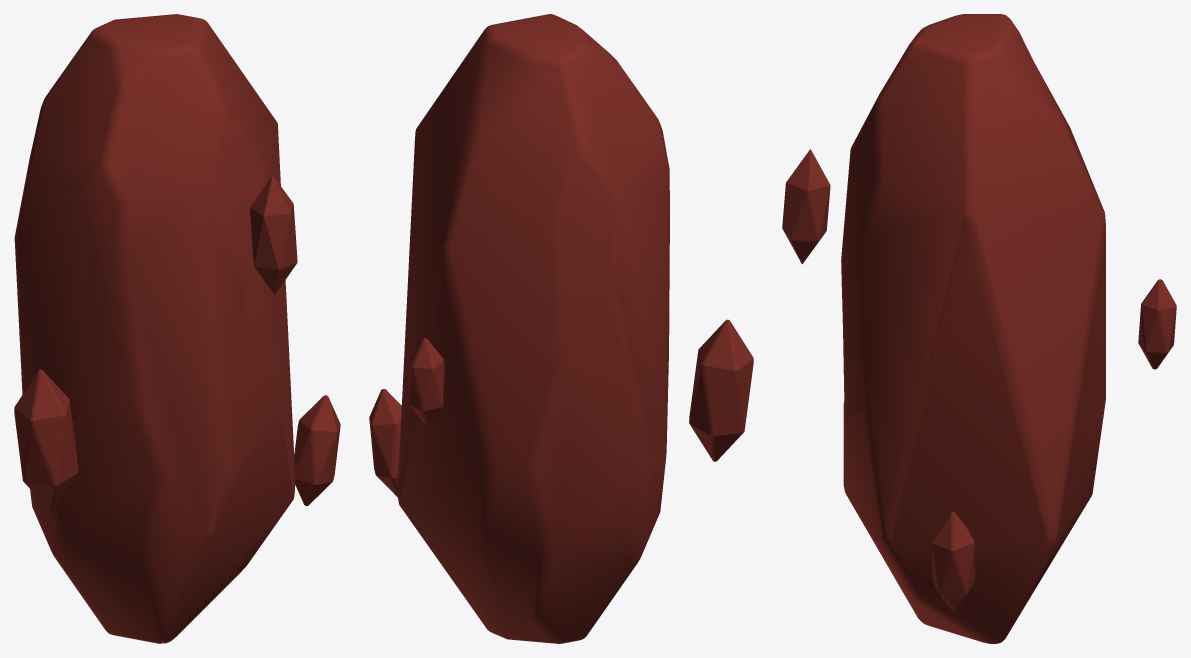
The model's file is crystal.glb.
3 renders of one model, left to right at view 1: azimuth 30°, elevation 25°; view 2: azimuth 150°, elevation 25°; view 3: azimuth 270°, elevation 25°, orthographic.
Visible parts, largest first — view 1: big rock, small rock 3, small rock 2, small rock 1; view 2: big rock, small rock 3, small rock 1, small rockj 4; view 3: big rock, small rock 2, small rock 1, small rockj 4.
Part boxes in pixels (box(x1,y1,x2,y2)): big rock: box(14, 14, 295, 643); small rock 3: box(14, 369, 78, 510); small rock 2: box(250, 175, 297, 294); small rock 1: box(294, 395, 340, 505); big rock: box(398, 14, 669, 643); small rock 3: box(689, 319, 753, 461); small rock 1: box(369, 389, 401, 497); small rockj 4: box(408, 338, 444, 425); big rock: box(841, 14, 1105, 643); small rock 2: box(782, 149, 830, 264); small rock 1: box(931, 512, 975, 609); small rockj 4: box(1138, 279, 1176, 369).
Size of the model in its own units: 2.47 by 4.05 by 2.43.
